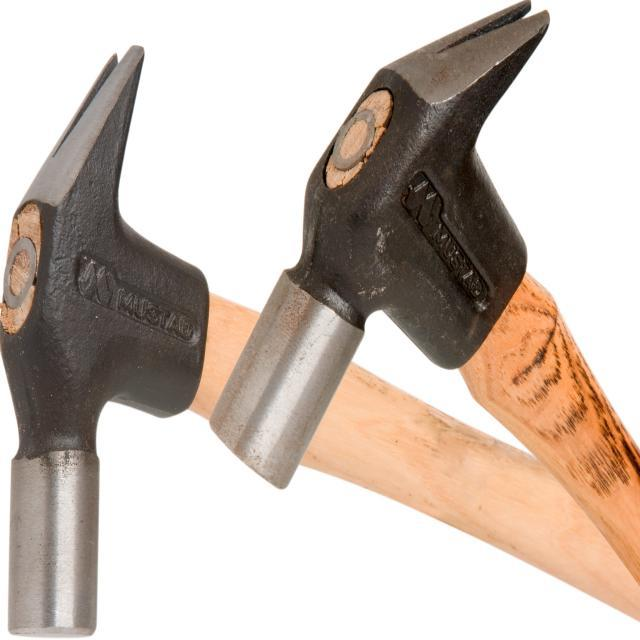hammer: (0, 37, 640, 638), (205, 0, 640, 592)
